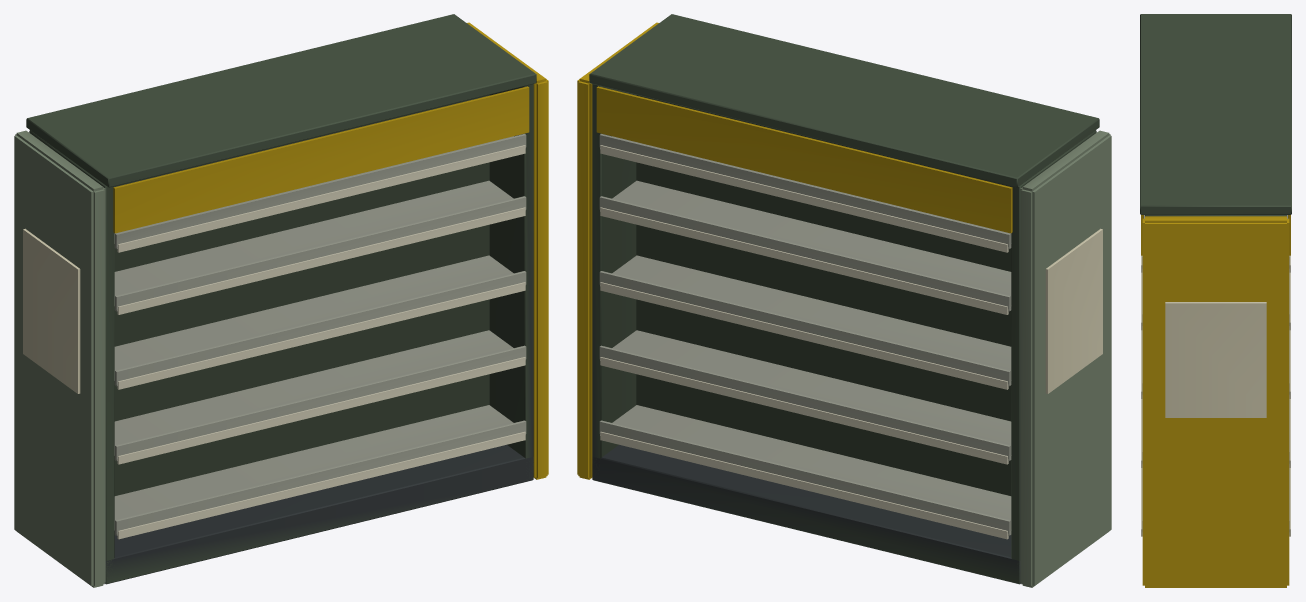
File: mkt-shelf-double.glb
The picture shows the model from 3 angles, left to right: view 1: azimuth 30°, elevation 25°; view 2: azimuth 150°, elevation 25°; view 3: azimuth 270°, elevation 25°; orthographic projection. The views are drawn at different scales.
Visible parts, largest first — view 1: frame__paint, shelves__steel, end-caps__lacquer, price-rails__plastic; view 2: frame__paint, shelves__steel, end-caps__lacquer, price-rails__plastic; view 3: end-caps__lacquer, frame__paint, price-rails__plastic, shelves__steel.
Part boxes in pixels (left/top/right/bottom): frame__paint: left=26, top=14, right=536, bottom=584; shelves__steel: left=114, top=134, right=526, bottom=535; end-caps__lacquer: left=14, top=22, right=548, bottom=587; price-rails__plastic: left=117, top=145, right=525, bottom=539; frame__paint: left=589, top=14, right=1099, bottom=584; shelves__steel: left=599, top=134, right=1011, bottom=535; end-caps__lacquer: left=577, top=22, right=1111, bottom=587; price-rails__plastic: left=600, top=145, right=1008, bottom=539; end-caps__lacquer: left=1142, top=216, right=1289, bottom=587; frame__paint: left=1140, top=14, right=1291, bottom=255; price-rails__plastic: left=1141, top=255, right=1290, bottom=536; shelves__steel: left=1142, top=215, right=1289, bottom=531.
Size of the model in its own units: 1.94 by 1.64 by 0.6.
